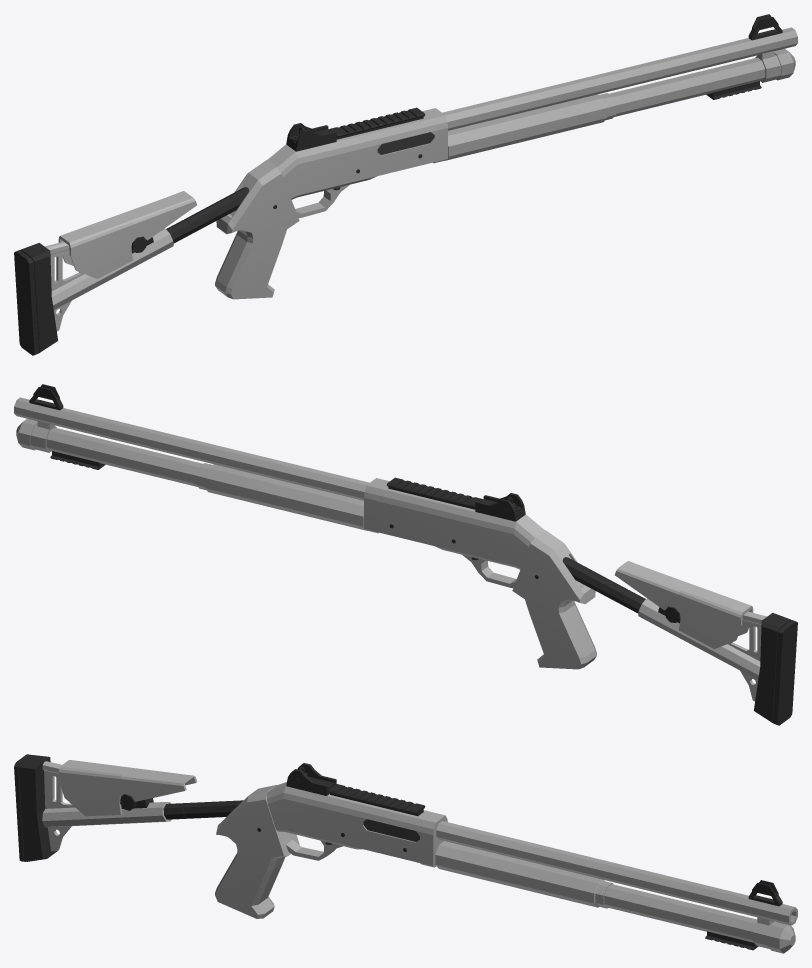
Rendered from Shotgun2_02.fbx.
3 renders of one model, top to bottom at view 1: azimuth 30°, elevation 25°; view 2: azimuth 150°, elevation 25°; view 3: azimuth 330°, elevation 25°, orthographic.
Parts seen in each view (by area): view 1: Shotgun2_02; view 2: Shotgun2_02; view 3: Shotgun2_02.
Part boxes in pixels (x1=…): Shotgun2_02: x1=14, y1=14, x2=797, y2=355; Shotgun2_02: x1=14, y1=384, x2=797, y2=725; Shotgun2_02: x1=14, y1=754, x2=797, y2=953.
Bounding box in the file's own units: 1.21 × 0.235 × 0.0439.
